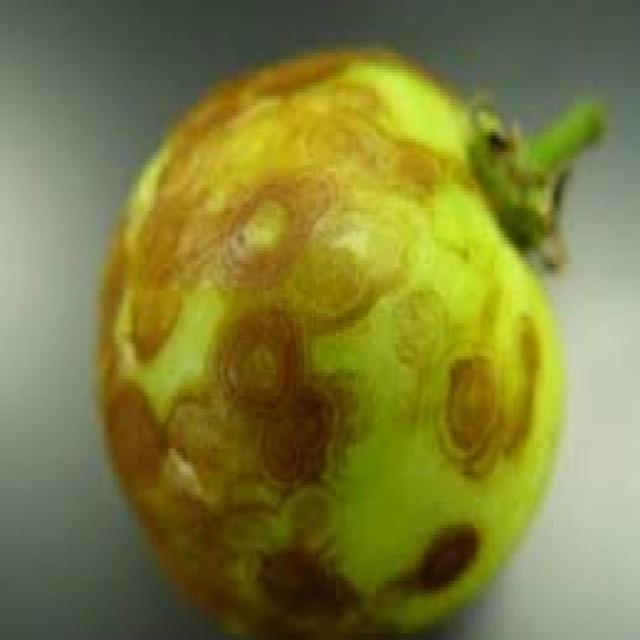Spotted wilt Virus Fruit: (31, 48, 100, 347)
